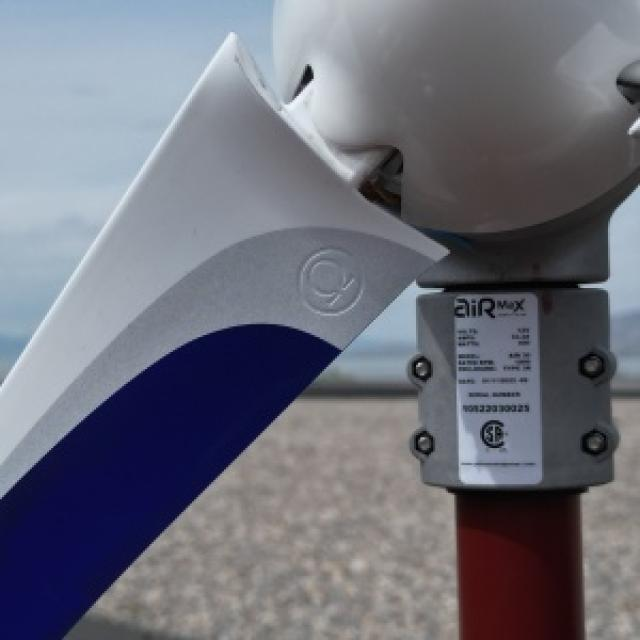healthy: (582, 397, 638, 638)
